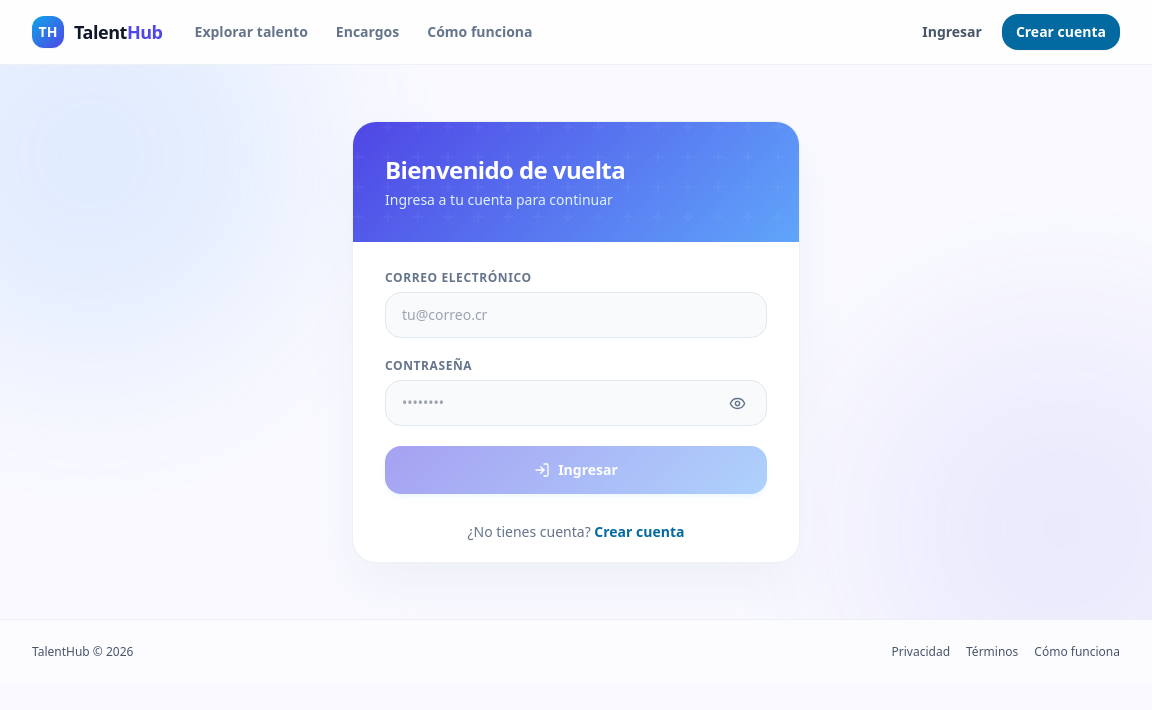
auth pages › shows an authentication error without redirecting
Type "ada@example.com" into the field labelled "Correo electrónico" at (576, 315), box top-left (385, 292), bottom-right (767, 338)
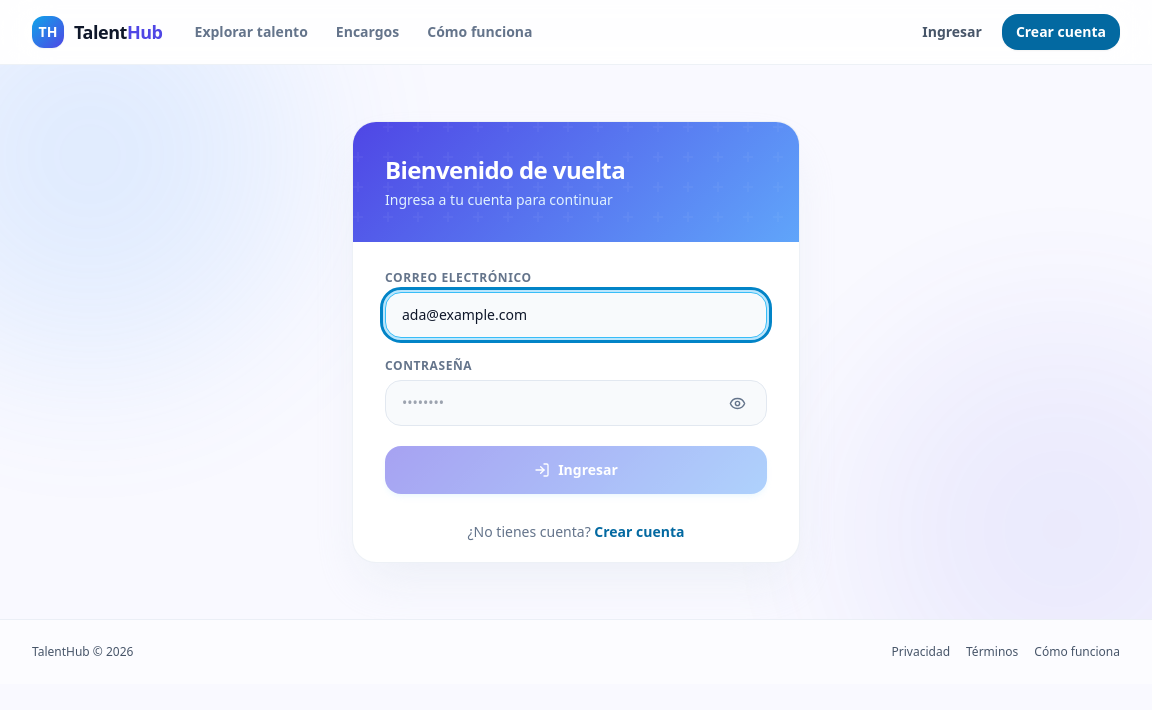
Type "Secure1!" into the password field labelled "Contraseña" at (576, 403), box top-left (385, 380), bottom-right (767, 426)
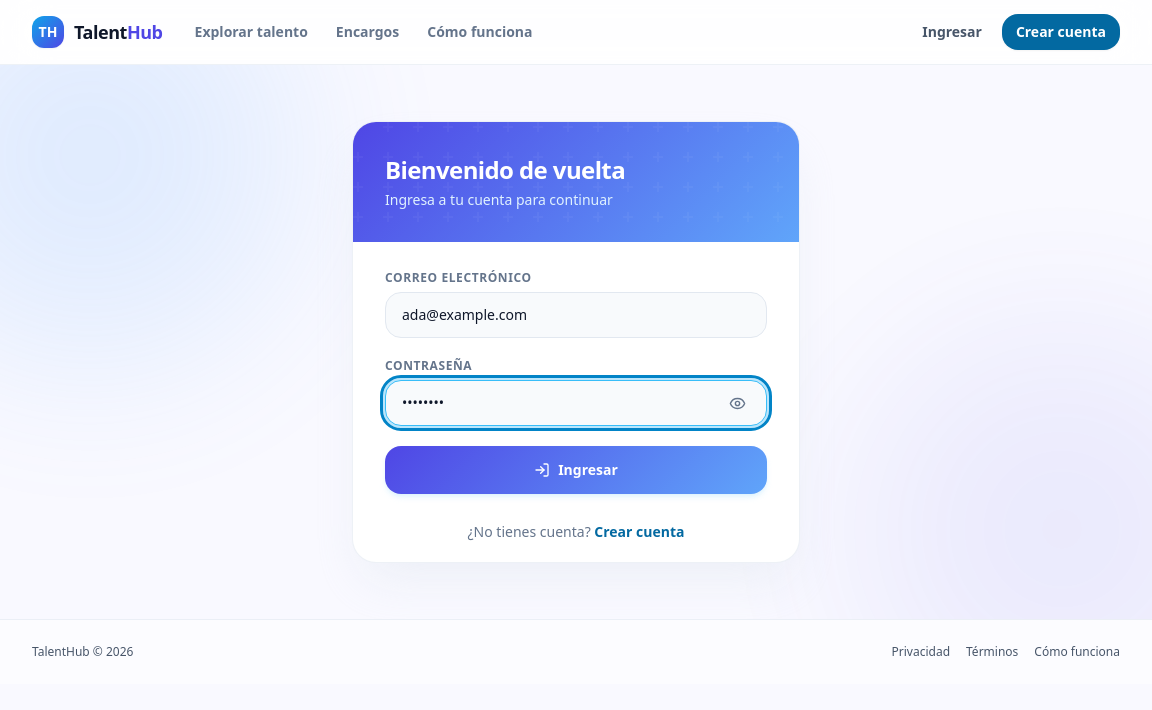
Click the button "Ingresar" at (576, 470), box top-left (385, 446), bottom-right (767, 494)
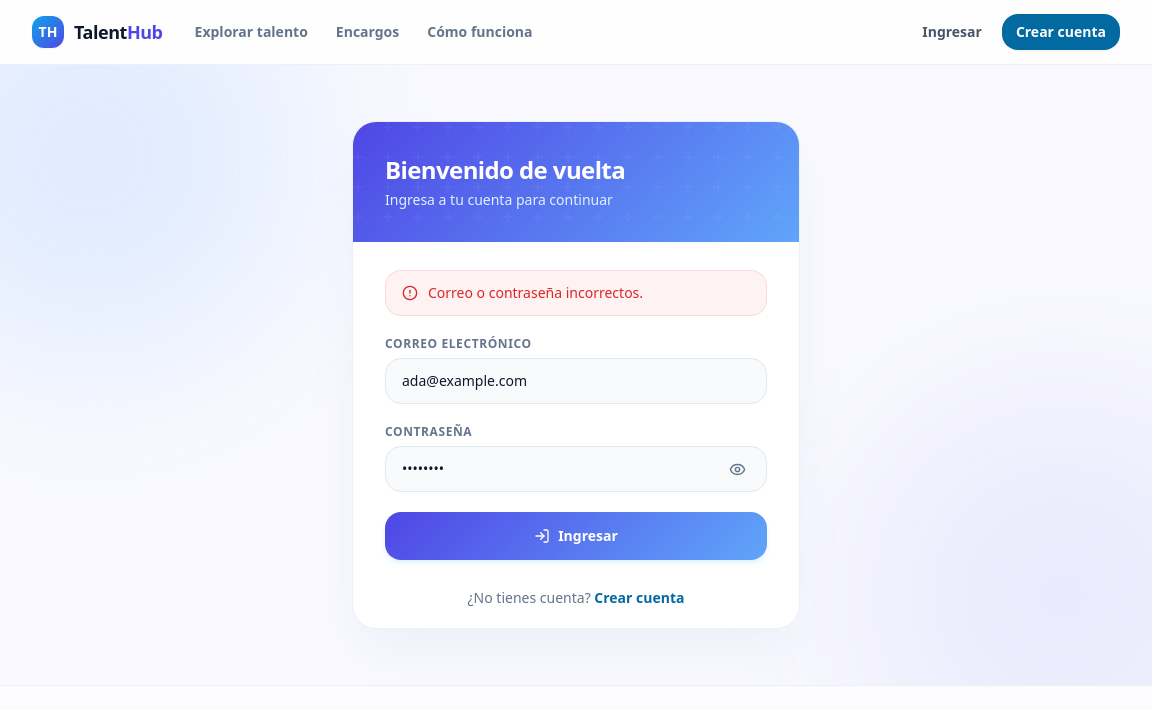
Expected: the text "Correo o contraseña incorrectos." is shown, top-left (385, 270), bottom-right (767, 316)
